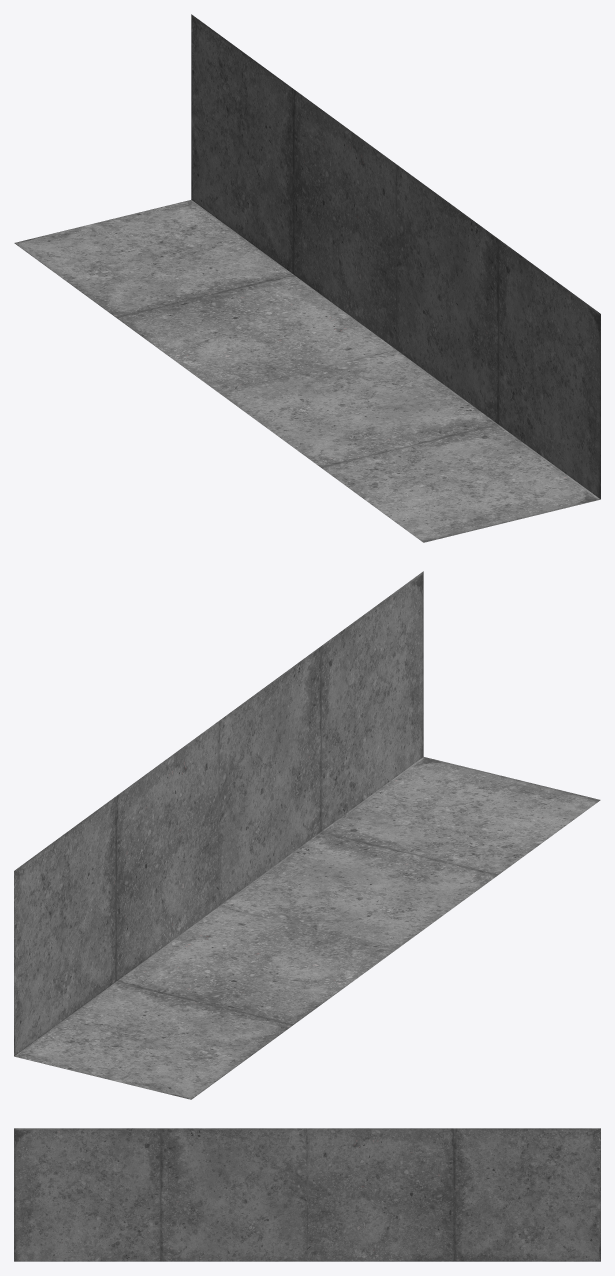
File: SM_Ceiling_22.fbx
3 views of the same model, one above another, from view 1: azimuth 30°, elevation 25°; view 2: azimuth 150°, elevation 25°; view 3: azimuth 270°, elevation 25° (orthographic). The views are drawn at different scales.
Visible parts, largest first — view 1: SM_Ceiling_22; view 2: SM_Ceiling_22; view 3: SM_Ceiling_22.
Part boxes in pixels (x1=…): SM_Ceiling_22: x1=14, y1=14, x2=600, y2=542; SM_Ceiling_22: x1=14, y1=571, x2=600, y2=1099; SM_Ceiling_22: x1=14, y1=1128, x2=600, y2=1261.
Bounding box in the file's own units: 100 × 100 × 400.
